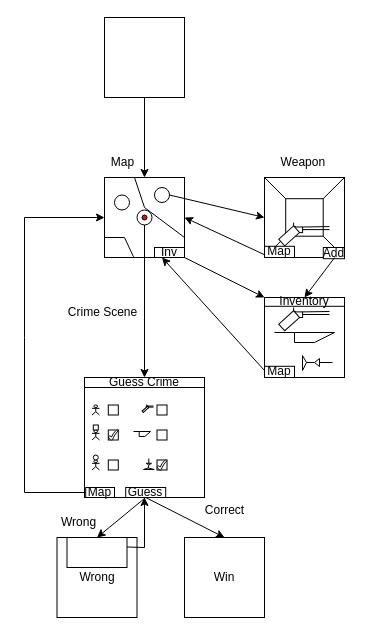
Image size: 376x635. Some labels were removed from this diagram. The centre of each missing label's shape, as x and y in pixels:
Guess again: pixel 96 552
Start: pixel 144 57
